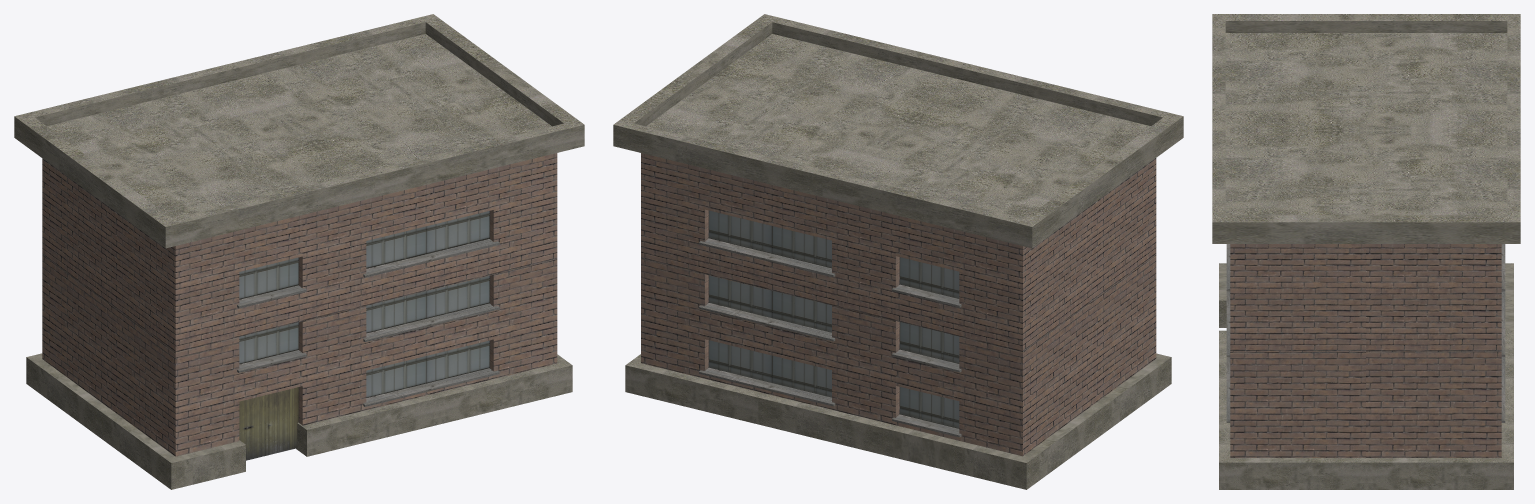
File: Building03B1.fbx
3 views of the same model, side by side, from view 1: azimuth 30°, elevation 25°; view 2: azimuth 150°, elevation 25°; view 3: azimuth 270°, elevation 25° (orthographic).
Visible parts, largest first — view 1: UB; view 2: UB; view 3: UB.
Part boxes in pixels (<box>): UB: <box>14,14,584,489</box>; UB: <box>613,14,1183,489</box>; UB: <box>1212,14,1520,489</box>.
Bounding box in the file's own units: 10.59 × 6.46 × 6.62.
